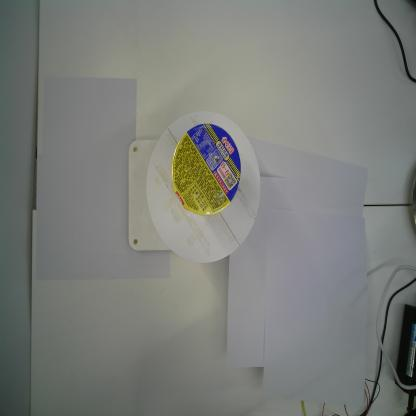Instant Noodles: (172, 122, 242, 216)
